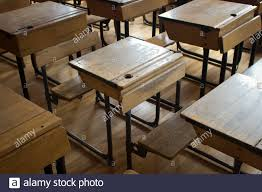desk: (68, 34, 184, 165), (157, 0, 257, 83), (0, 0, 87, 95)
